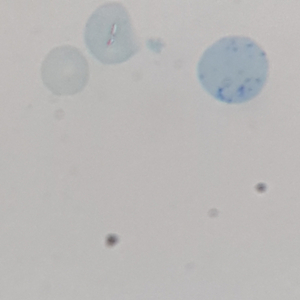aggregate reticulocyte: (194, 34, 271, 106)
erythrocyte: (82, 1, 142, 68), (39, 44, 91, 98)
